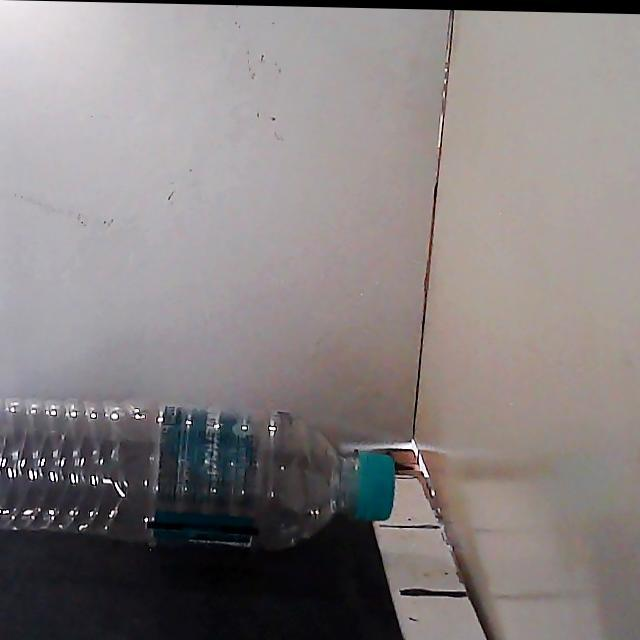plastico: (0, 400, 394, 549)
